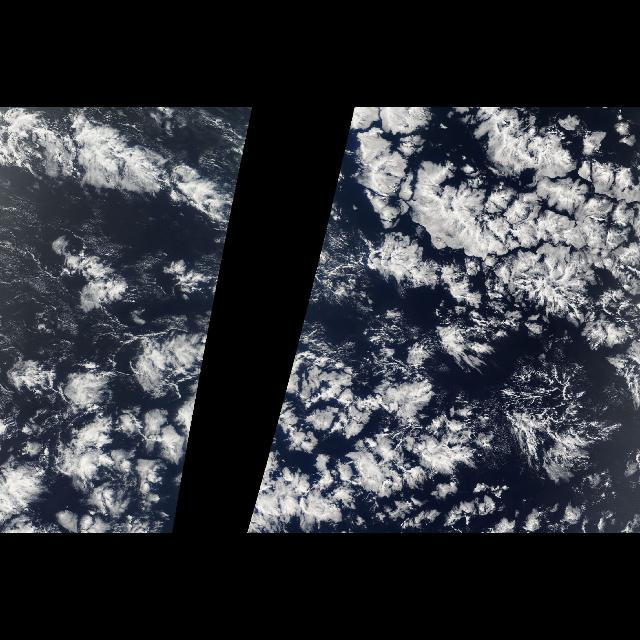Flower: (0, 248, 224, 532)
